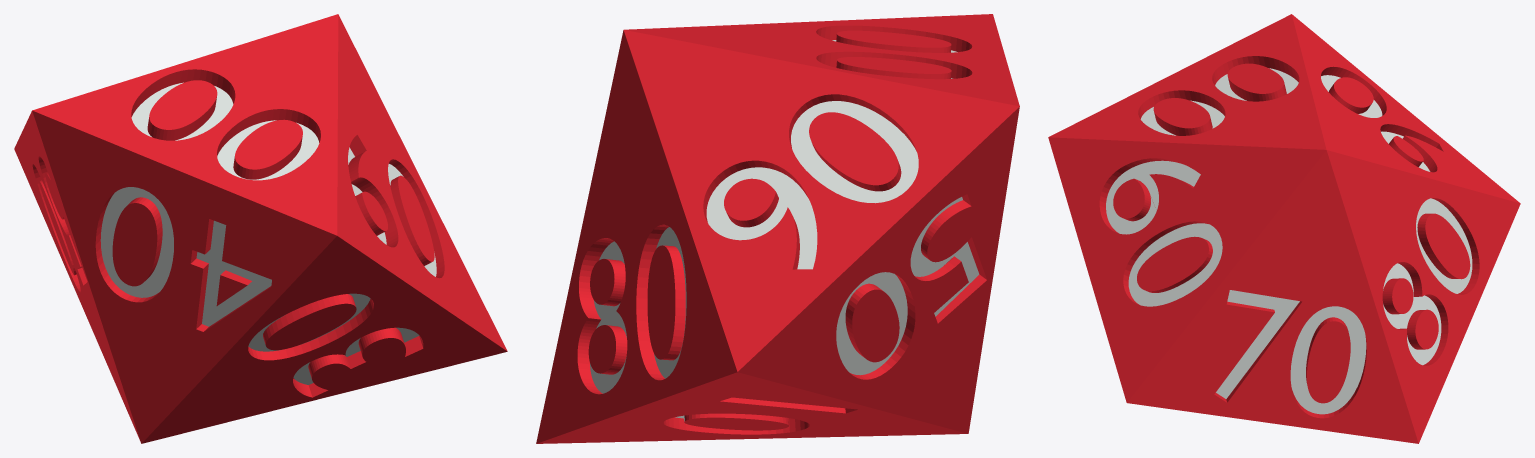
Rendered from redDice.gltf.
The picture shows the model from 3 angles, left to right: view 1: azimuth 30°, elevation 25°; view 2: azimuth 150°, elevation 25°; view 3: azimuth 270°, elevation 25°; orthographic projection. The views are drawn at different scales.
Visible parts, largest first — view 1: 円柱; view 2: 円柱; view 3: 円柱.
Part boxes in pixels (x1,y1,x2,y2): 円柱: (14, 14, 507, 443); 円柱: (536, 14, 1019, 443); 円柱: (1048, 14, 1520, 443).
Bounding box in the file's own units: 1.49 × 1.24 × 1.85.
